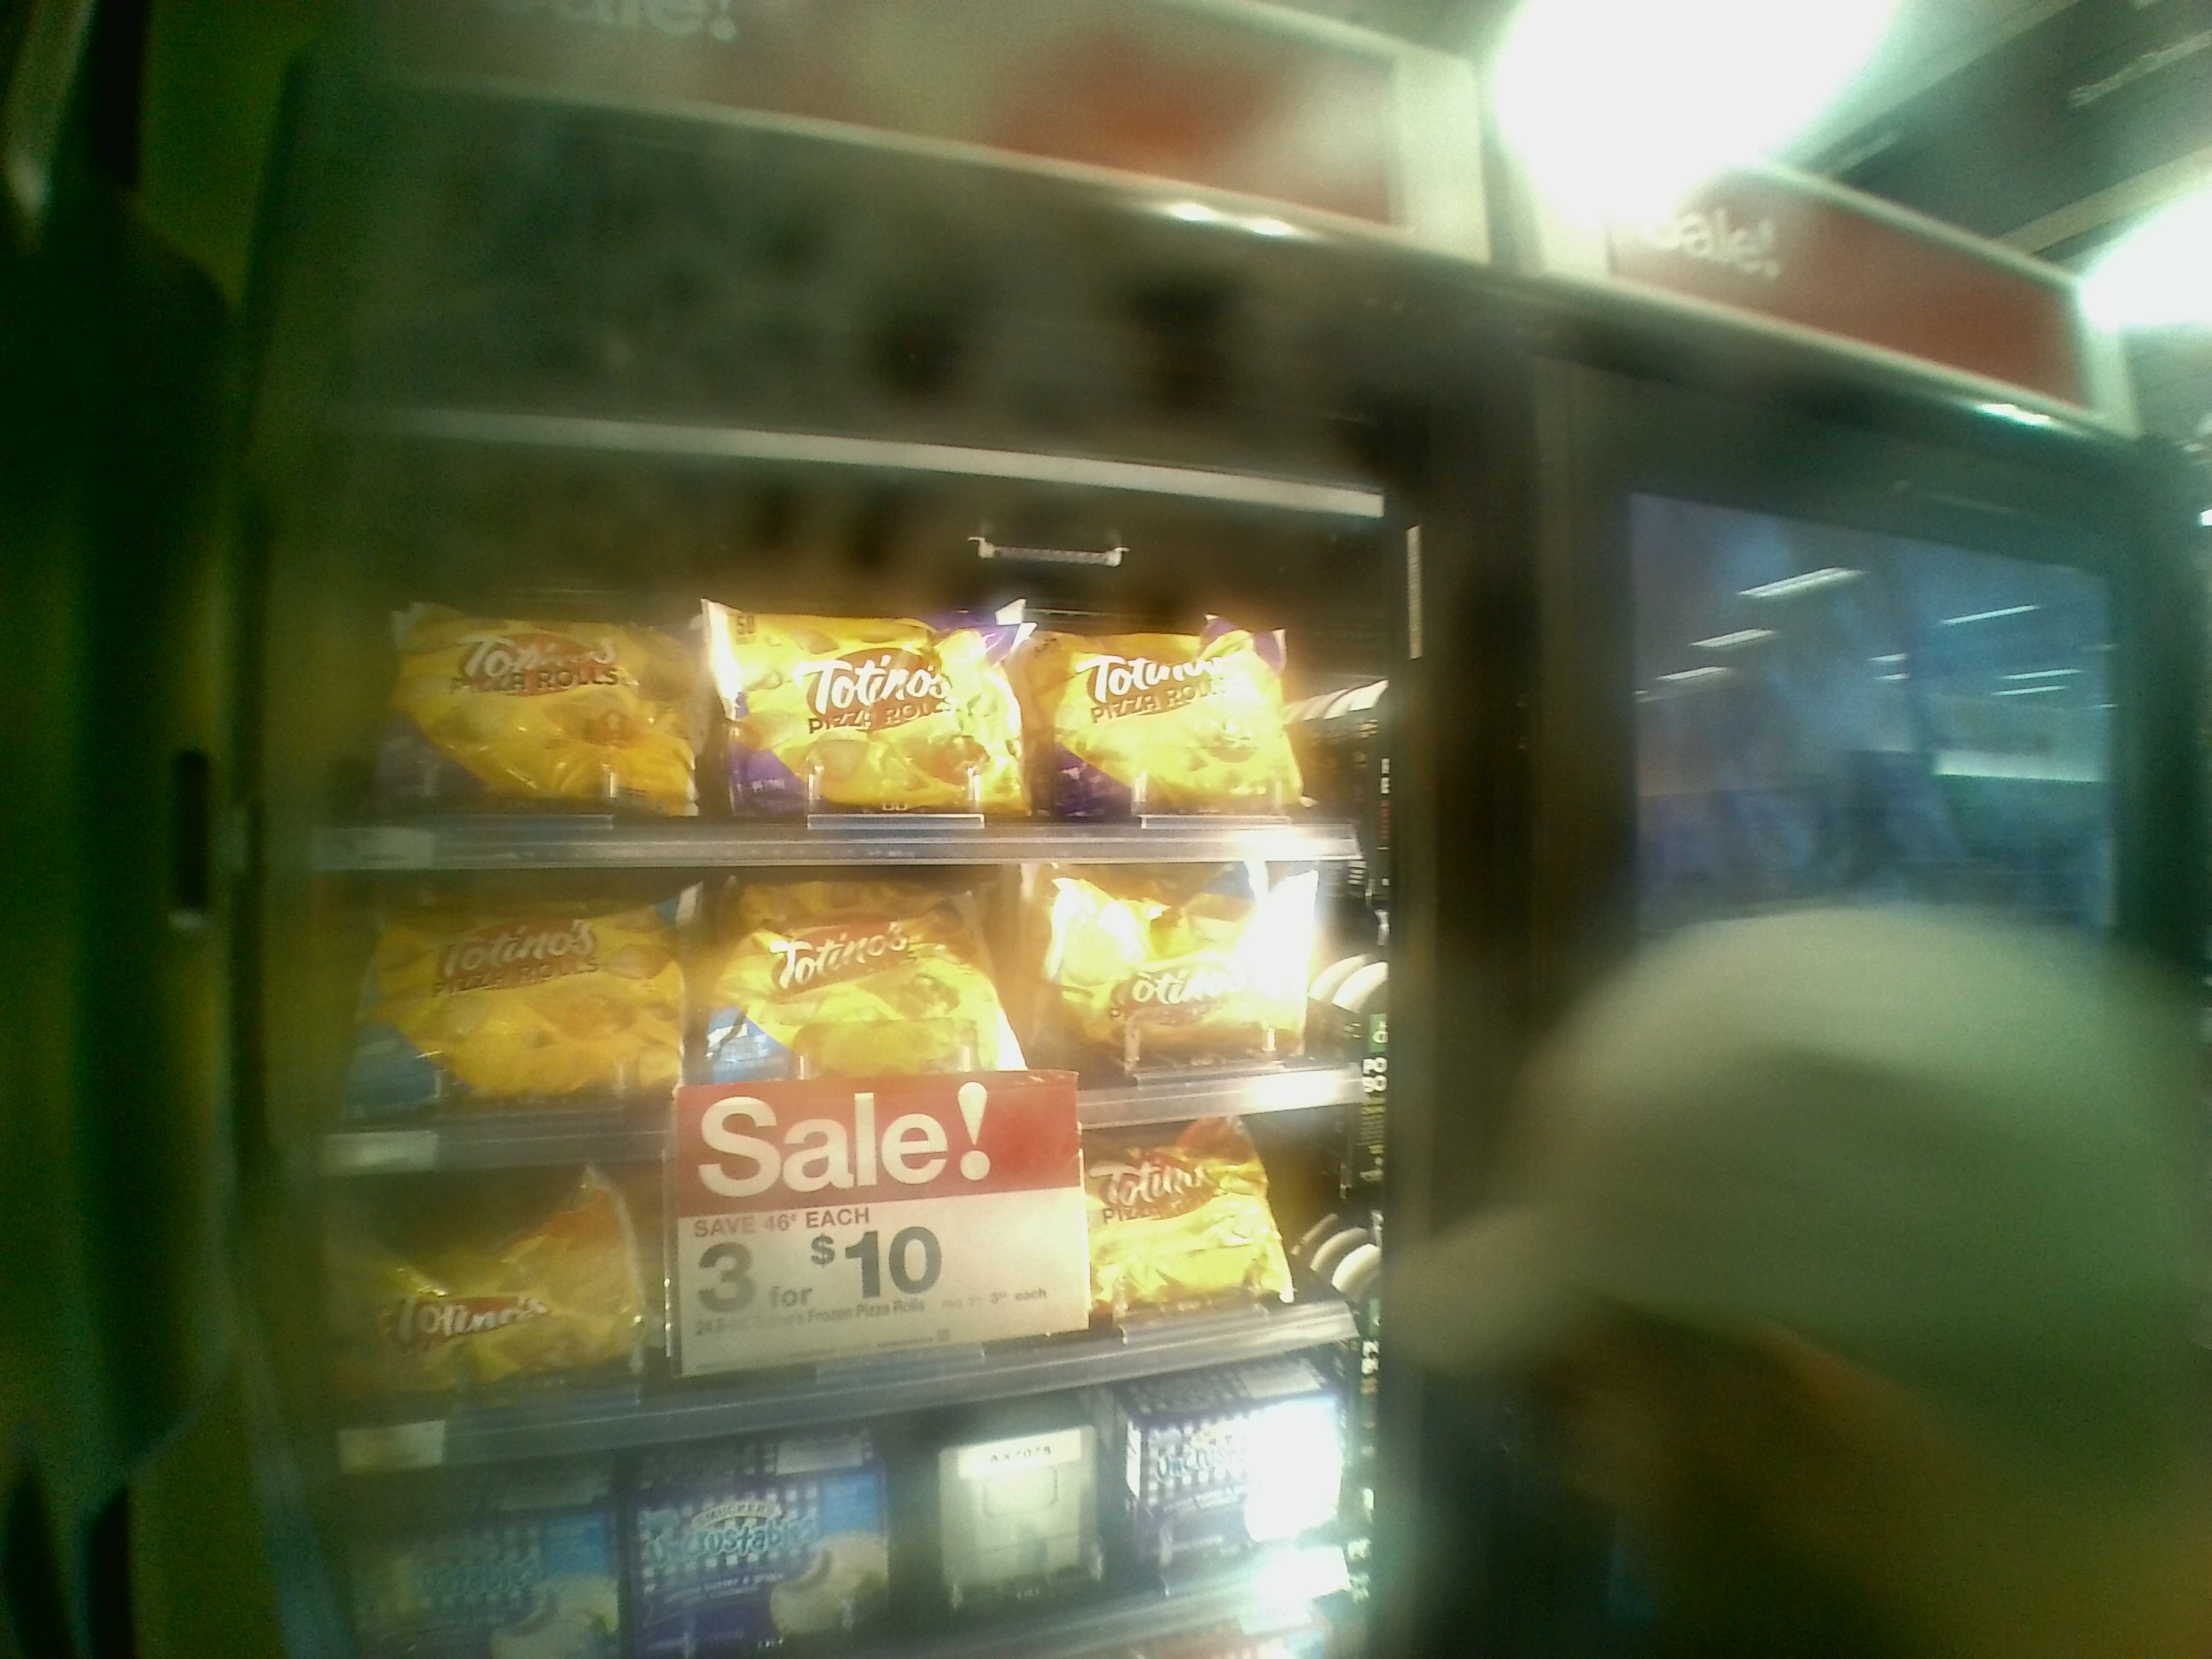shelf: (308, 519, 1371, 845), (308, 849, 1362, 1110), (291, 1124, 1353, 1352)
